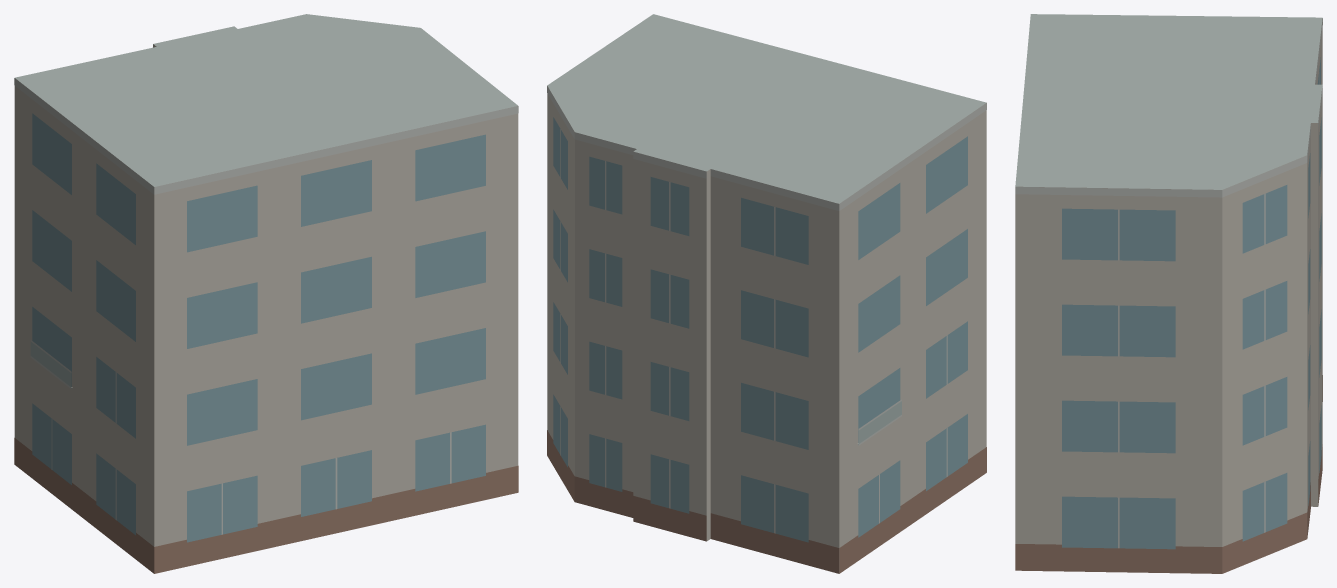
Rendered from survey-upis-33034699.glb.
3 views of the same model, side by side, from view 1: azimuth 30°, elevation 25°; view 2: azimuth 150°, elevation 25°; view 3: azimuth 270°, elevation 25° (orthographic). The views are drawn at different scales.
Visible parts, largest first — view 1: survey-upis-33034699.tmp; view 2: survey-upis-33034699.tmp; view 3: survey-upis-33034699.tmp.
Boxes of the visible parts, x1,y1,x2,y2 form: survey-upis-33034699.tmp: [14, 14, 518, 573]; survey-upis-33034699.tmp: [547, 14, 986, 573]; survey-upis-33034699.tmp: [1015, 14, 1322, 573].
Size of the model in its own units: 12.1 by 12.3 by 8.94.
